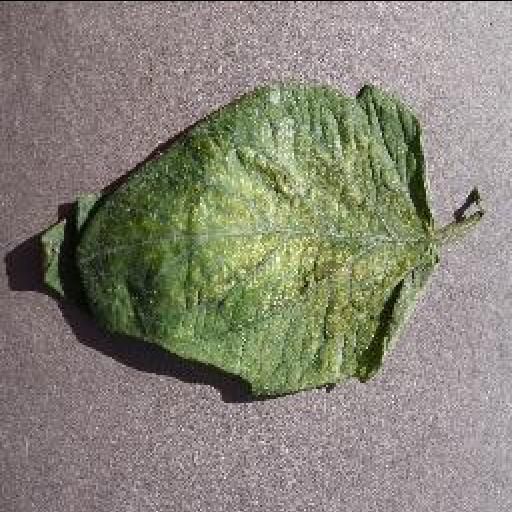disease_tomato: (39, 84, 437, 398)
